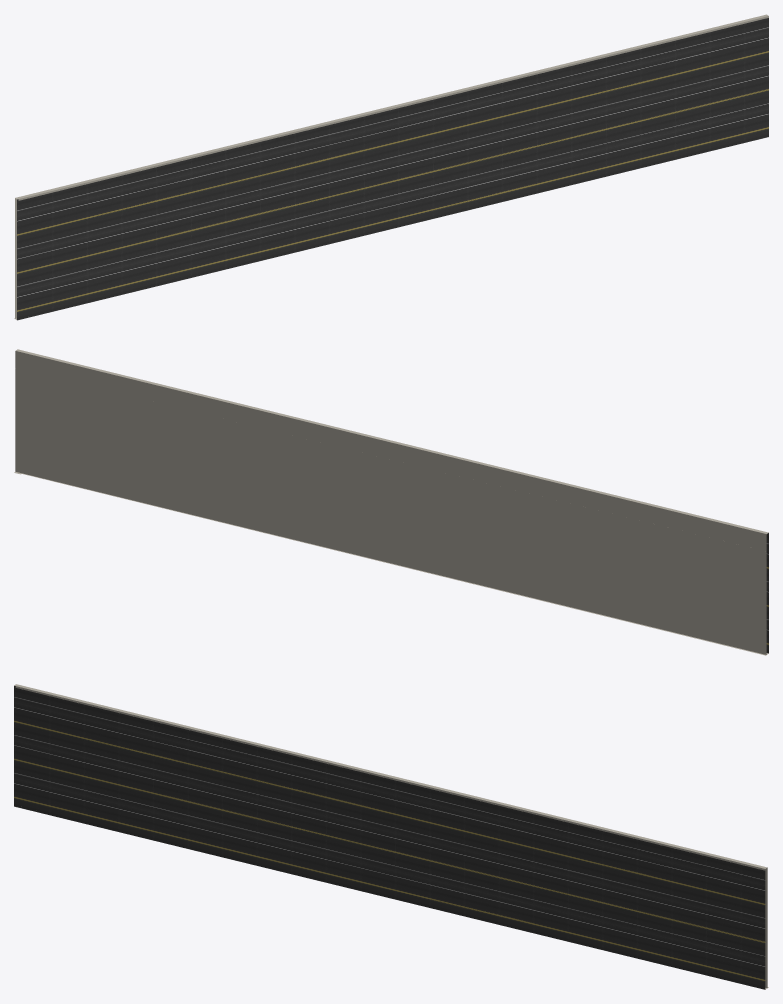
The model's file is deck_05.obj.
3 renders of one model, top to bottom at view 1: azimuth 30°, elevation 25°; view 2: azimuth 150°, elevation 25°; view 3: azimuth 330°, elevation 25°, orthographic.
Parts seen in each view (by area): view 1: _12, _8; view 2: _8; view 3: _12, _8.
Boxes of the visible parts, <box> form: _12: <box>17,18,768,320</box>; _8: <box>14,14,768,319</box>; _8: <box>14,349,768,655</box>; _12: <box>14,685,765,989</box>; _8: <box>14,684,768,989</box>.
Size of the model in its own units: 35.65 by 5.48 by 0.2988.
